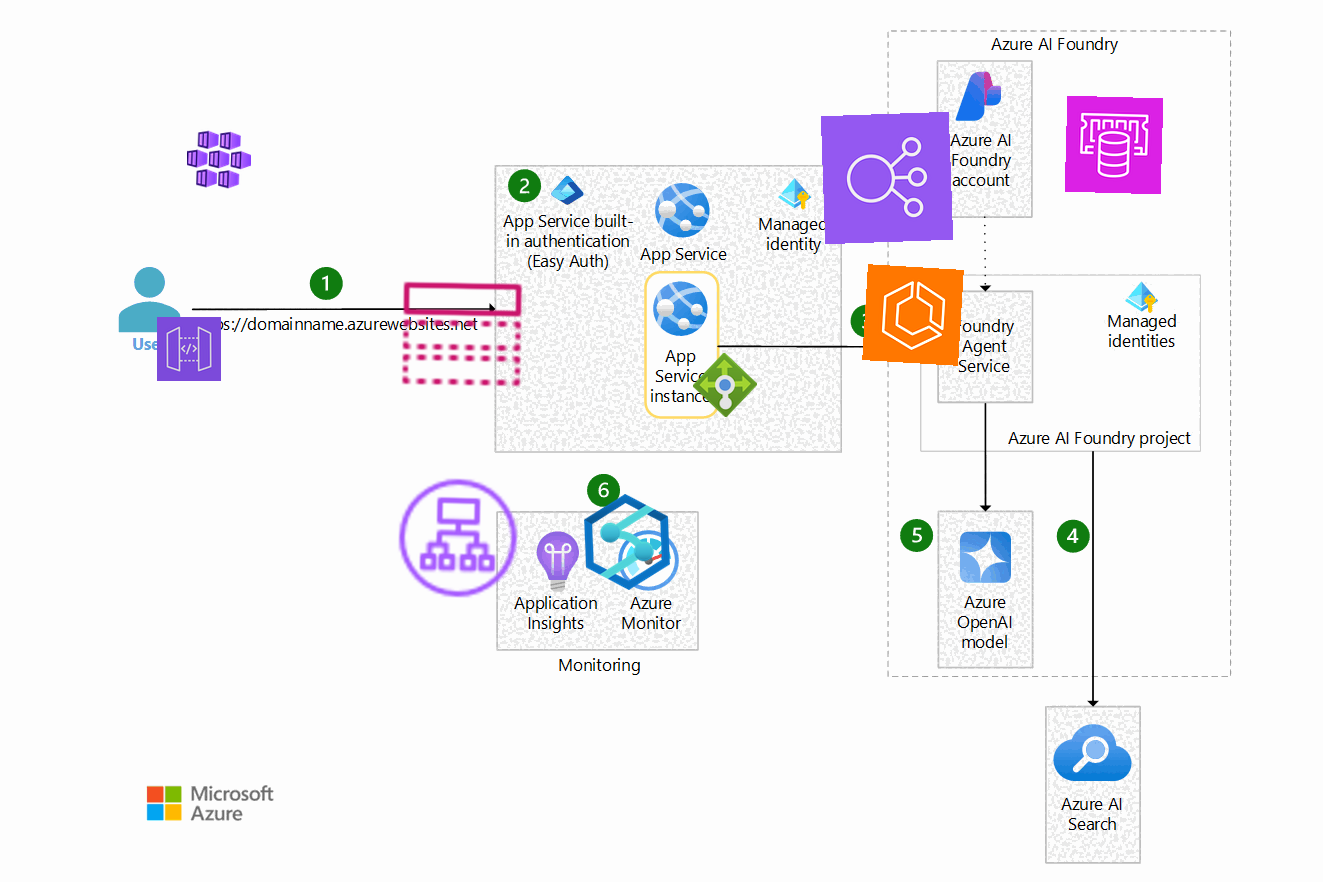aws_amazon_api_gateway: (156, 316, 222, 382)
aws_amazon_elastic_container_service: (862, 264, 964, 366)
aws_amazon_elasticache: (1064, 95, 1164, 195)
aws_elastic_load_balancing: (820, 111, 954, 245)
aws_elastic_load_balancing_application_load_balancer: (392, 472, 524, 604)
aws_simple_notification_service_topic: (396, 268, 528, 400)
azure_kubernetes_services: (185, 125, 253, 193)
azure_load_balancers: (692, 352, 758, 418)
azure_synapse_analytics: (577, 492, 677, 592)
